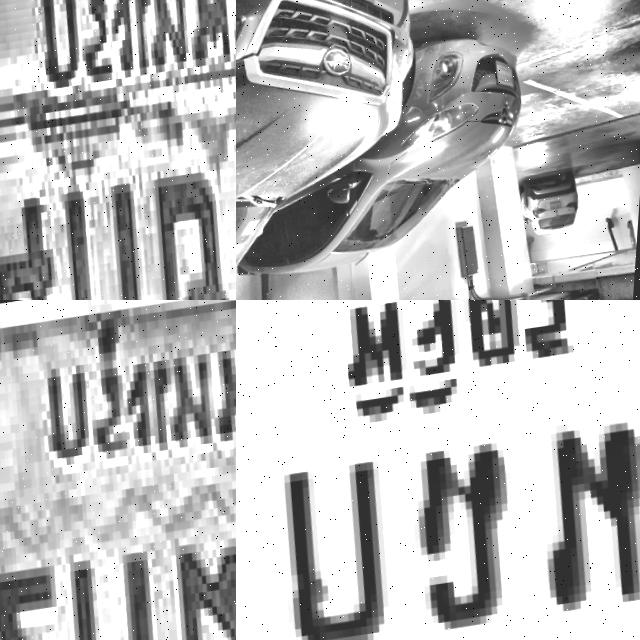license-plate: (236, 300, 640, 640), (0, 300, 236, 640), (0, 0, 236, 300), (494, 56, 523, 95), (557, 202, 567, 213)
